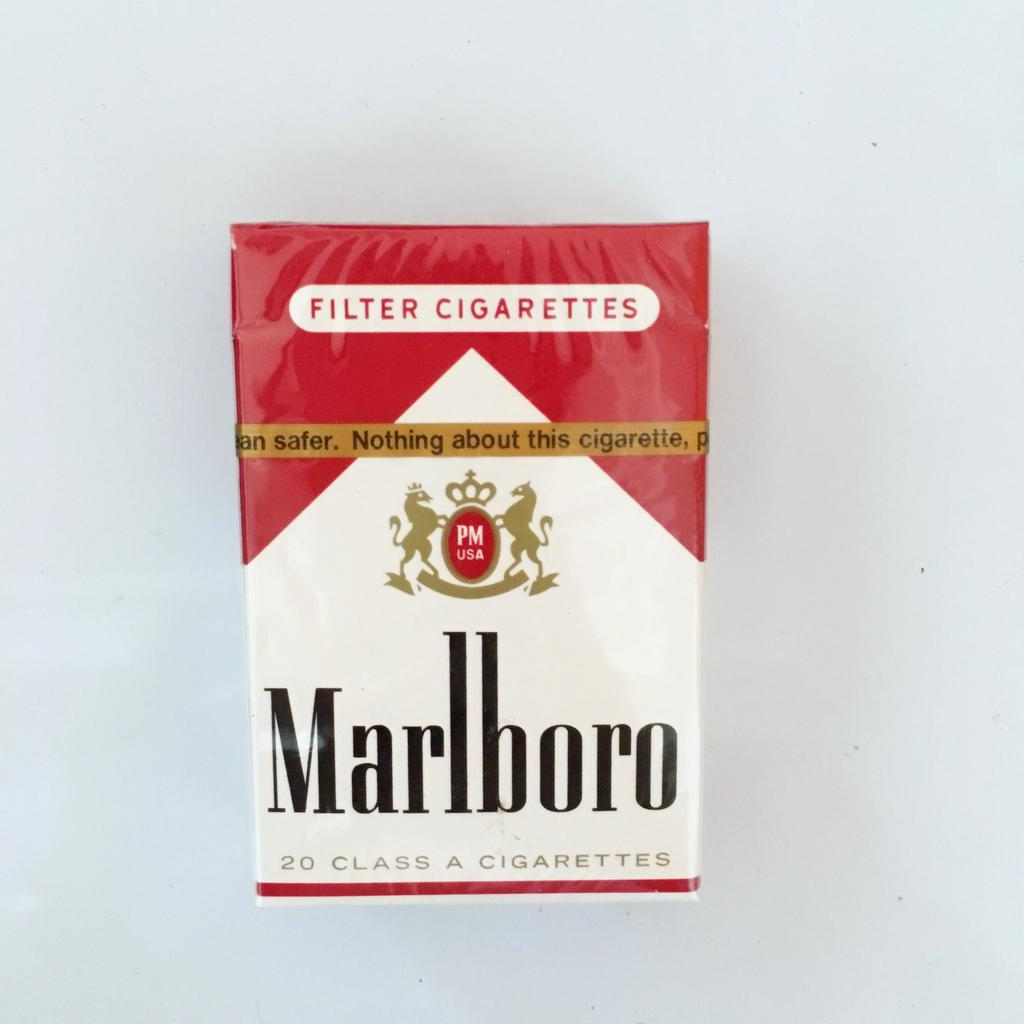marlboro_red: (245, 227, 710, 902)
